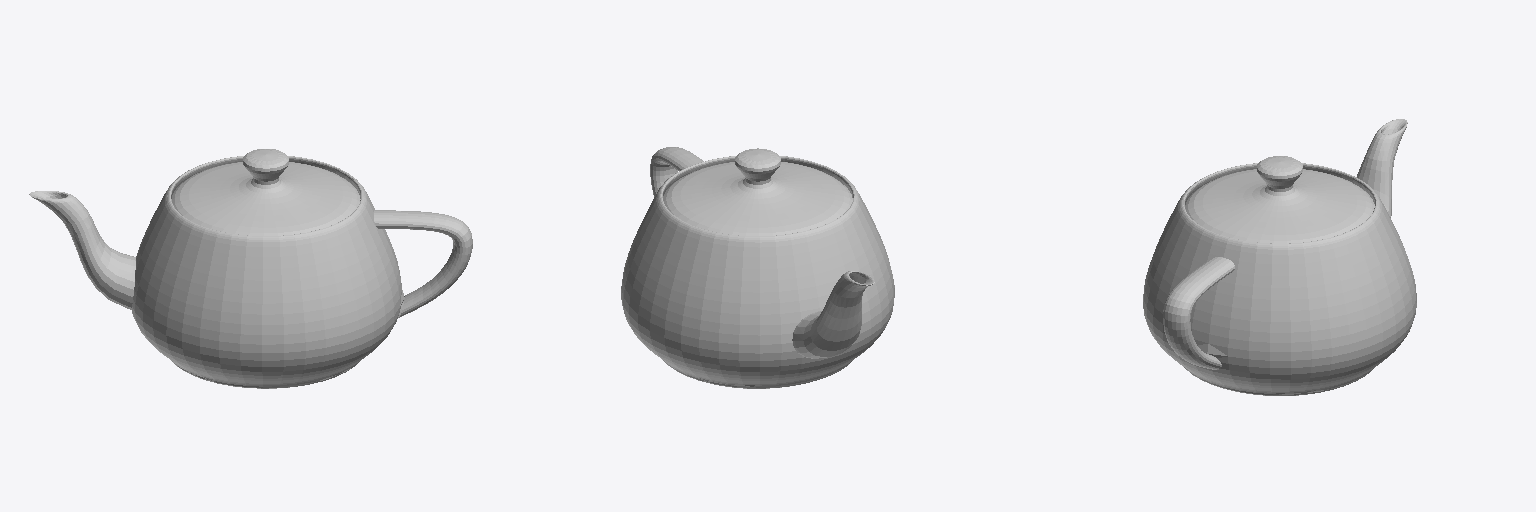
File: teapot.obj
3 views of the same model, side by side, from view 1: azimuth 30°, elevation 25°; view 2: azimuth 150°, elevation 25°; view 3: azimuth 270°, elevation 25° (orthographic).
Parts seen in each view (by area): view 1: Teapot; view 2: Teapot; view 3: Teapot.
Boxes of the visible parts, box(x1,y1,x2,y2) form: Teapot: box(29, 149, 472, 388); Teapot: box(621, 147, 894, 388); Teapot: box(1143, 119, 1416, 395).
Bounding box in the file's own units: 5.5 × 3.15 × 3.93.